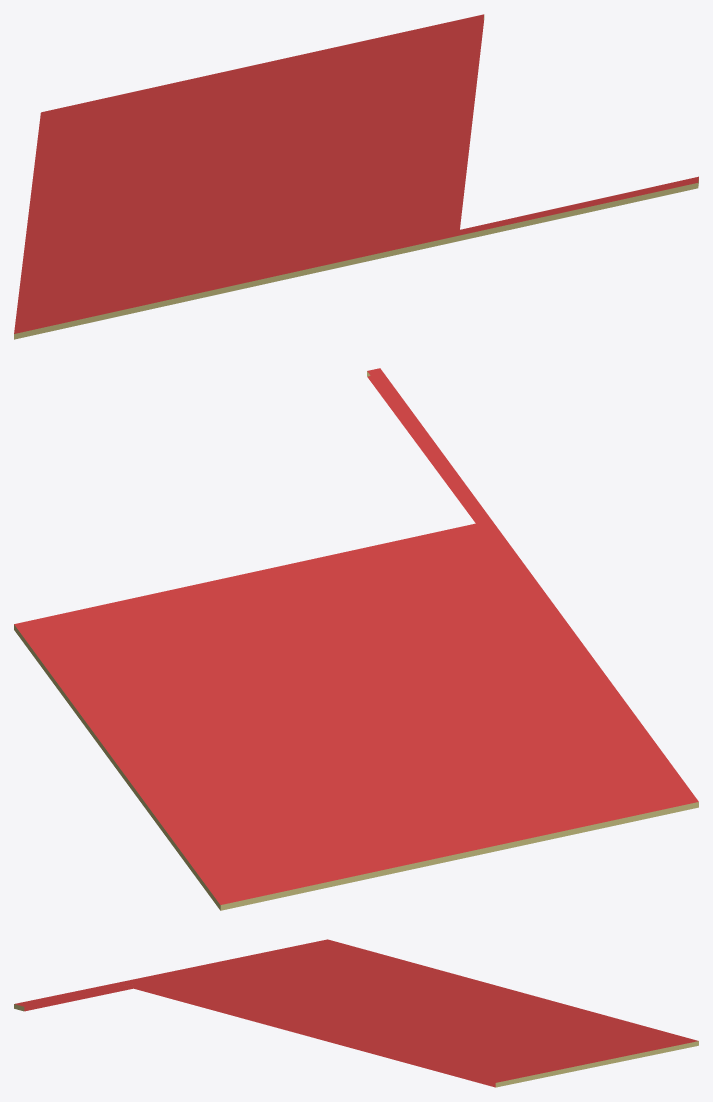
3 views of the same model, one above another, from view 1: azimuth 30°, elevation 25°; view 2: azimuth 150°, elevation 25°; view 3: azimuth 270°, elevation 25° (orthographic). The views are drawn at different scales.
Bounding box in the file's own units: 10.72 × 13.25 × 3.09.
